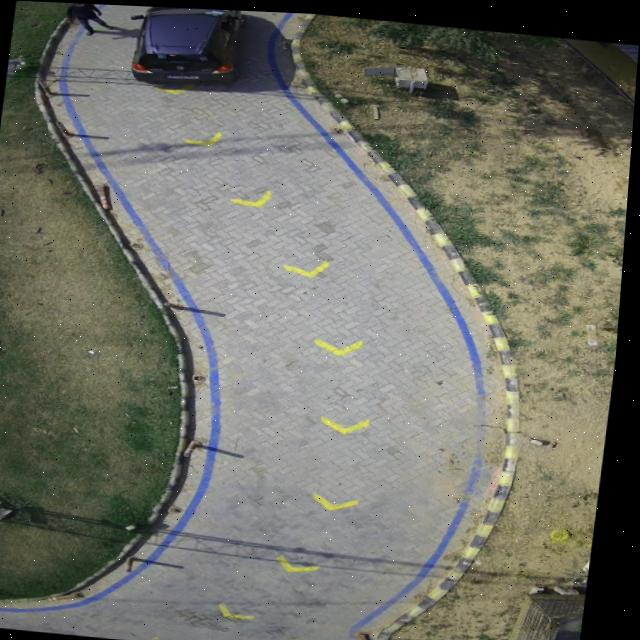car: (131, 5, 247, 83)
